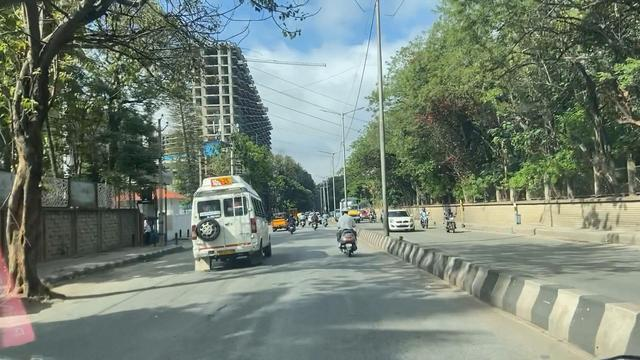HMV: (185, 167, 276, 273)
LMV: (338, 201, 365, 261)
